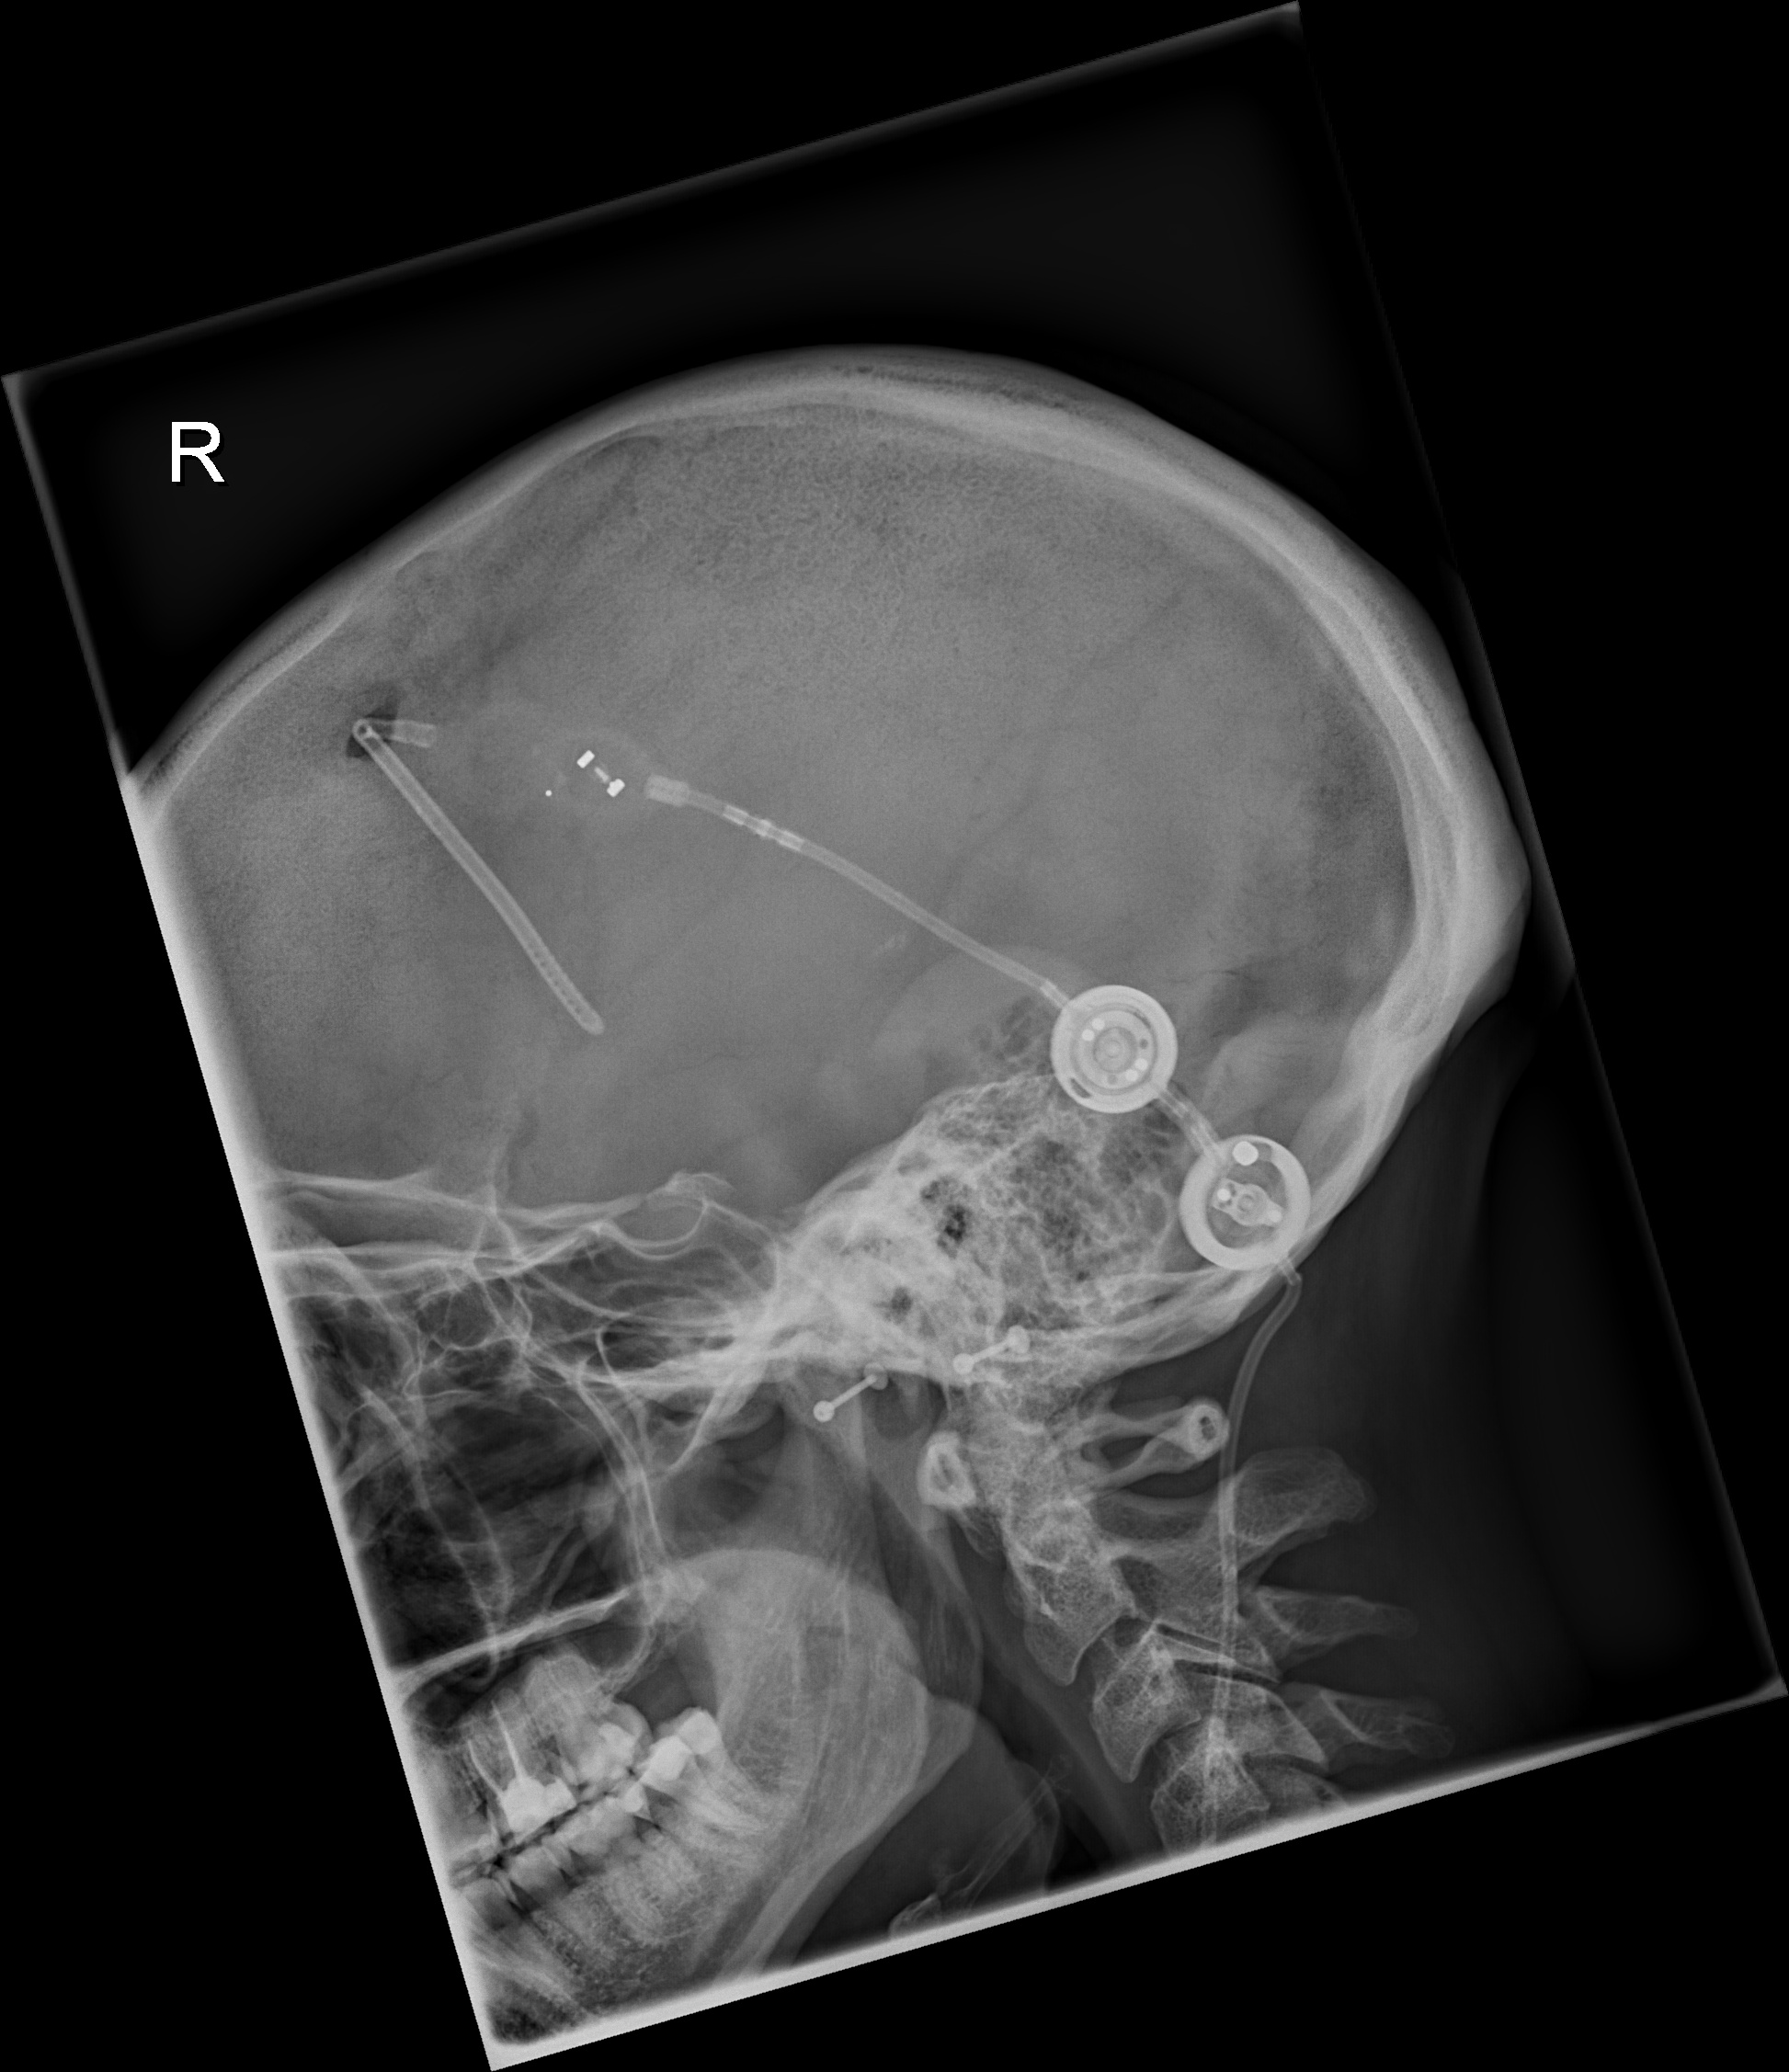Codman Certas: (516, 715, 664, 840)
proGAV 2.0: (1045, 980, 1179, 1115)
proSA: (1174, 1128, 1315, 1283)
